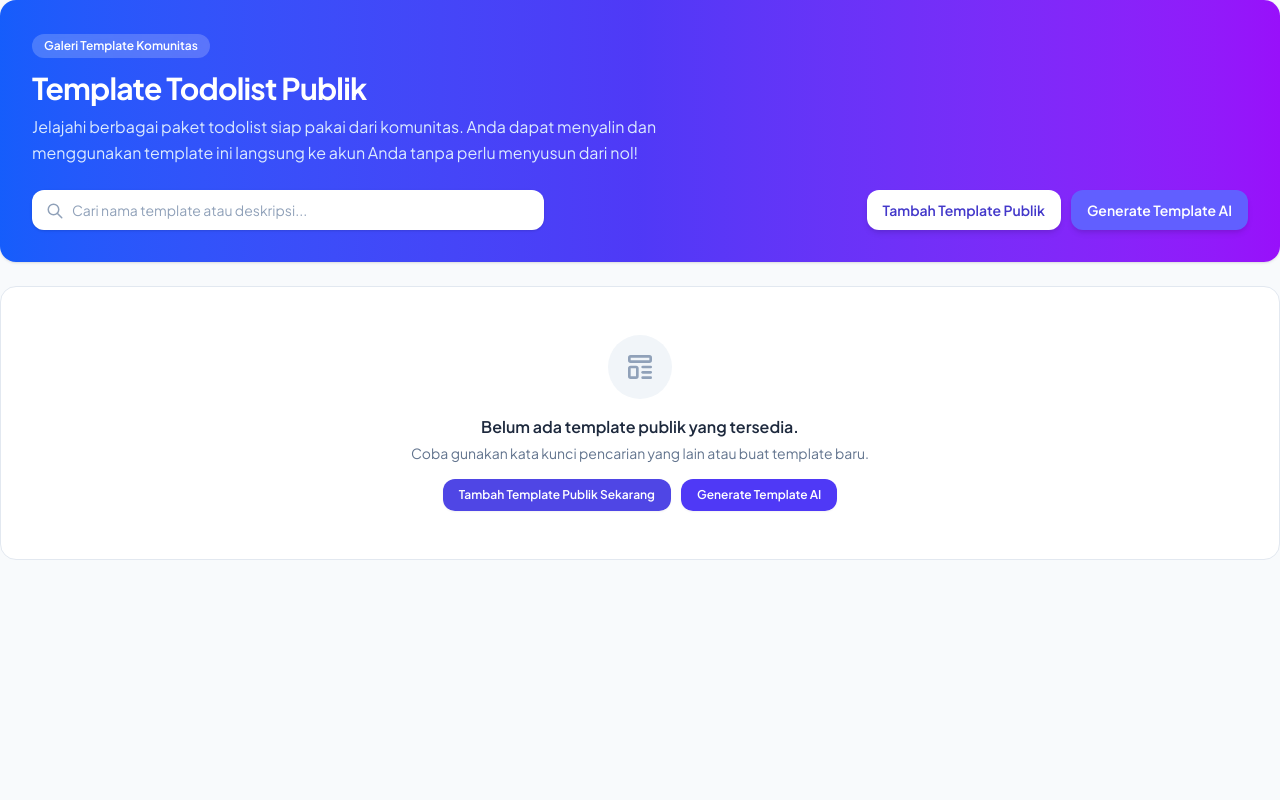
Test: TemplateCatalog Component › allows opening AI template modal from empty state button
Click the button "Generate Template AI" below "Belum ada template publik yang tersedia." at point(759, 495), box x1=681 y1=479 x2=837 y2=511
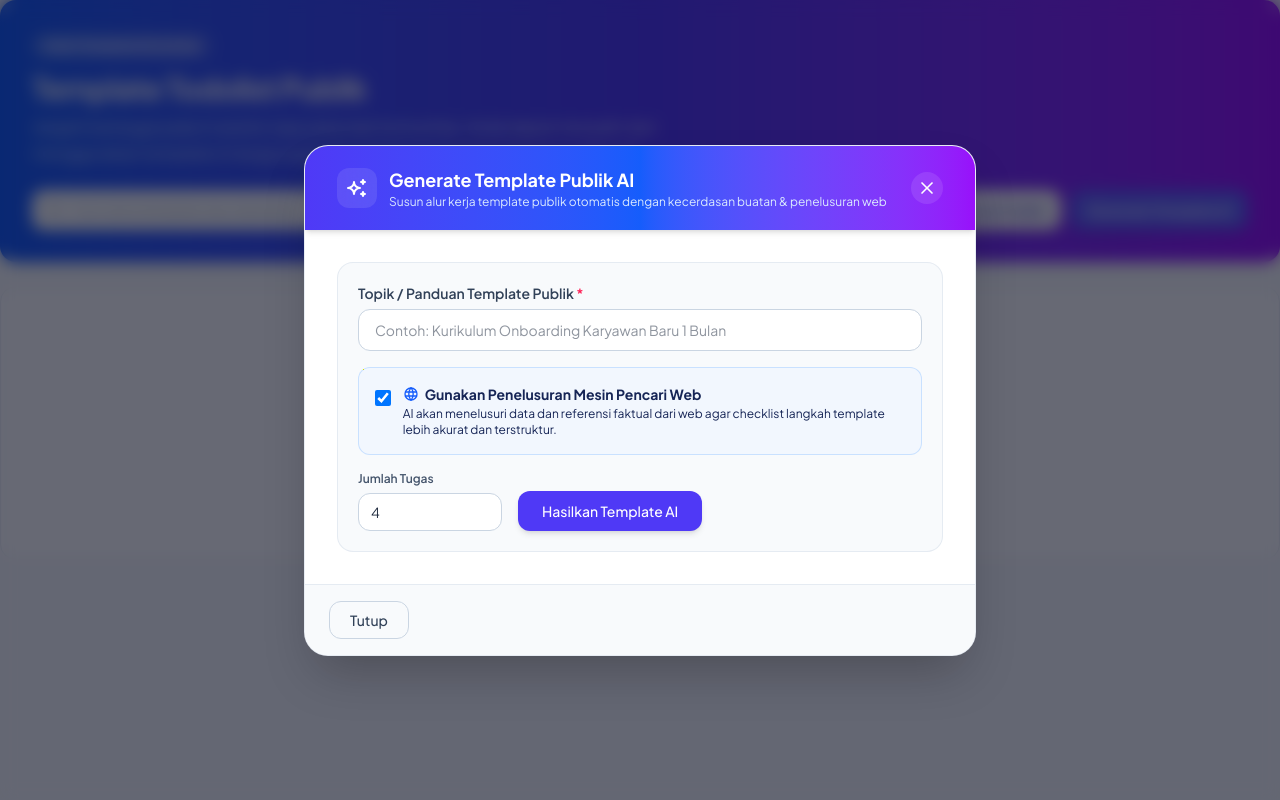
Now the element with test id "ai-template-modal" is shown
